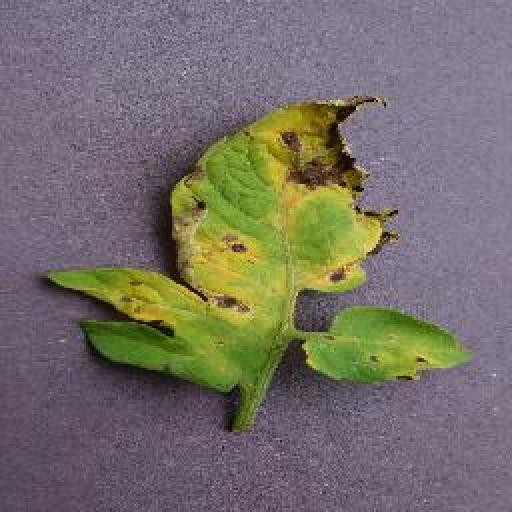disease_tomato: (36, 92, 402, 394), (303, 306, 477, 384)
